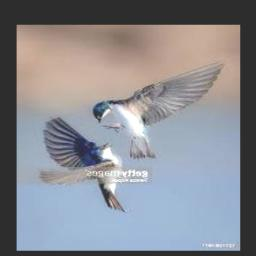Swallow: (93, 60, 225, 159), (40, 117, 125, 211)
